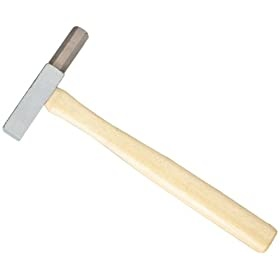hammer: (2, 25, 278, 257)
